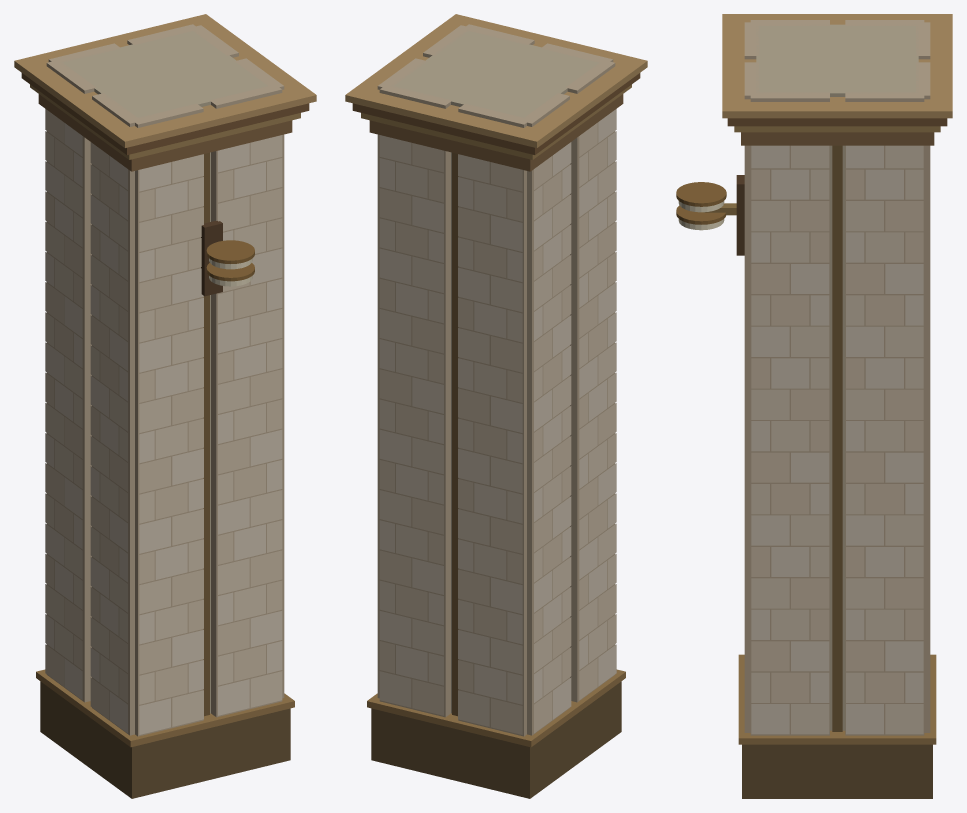
Rendered from pier.glb.
3 views of the same model, side by side, from view 1: azimuth 30°, elevation 25°; view 2: azimuth 150°, elevation 25°; view 3: azimuth 270°, elevation 25° (orthographic). The views are drawn at different scales.
Visible parts, largest first — view 1: SweetParkVaultPier; view 2: SweetParkVaultPier; view 3: SweetParkVaultPier.
Part boxes in pixels (x1,y1,x2,y2): SweetParkVaultPier: [14, 14, 316, 798]; SweetParkVaultPier: [345, 14, 647, 798]; SweetParkVaultPier: [676, 14, 952, 798].
Size of the model in its own units: 1.05 by 3.51 by 1.26.
